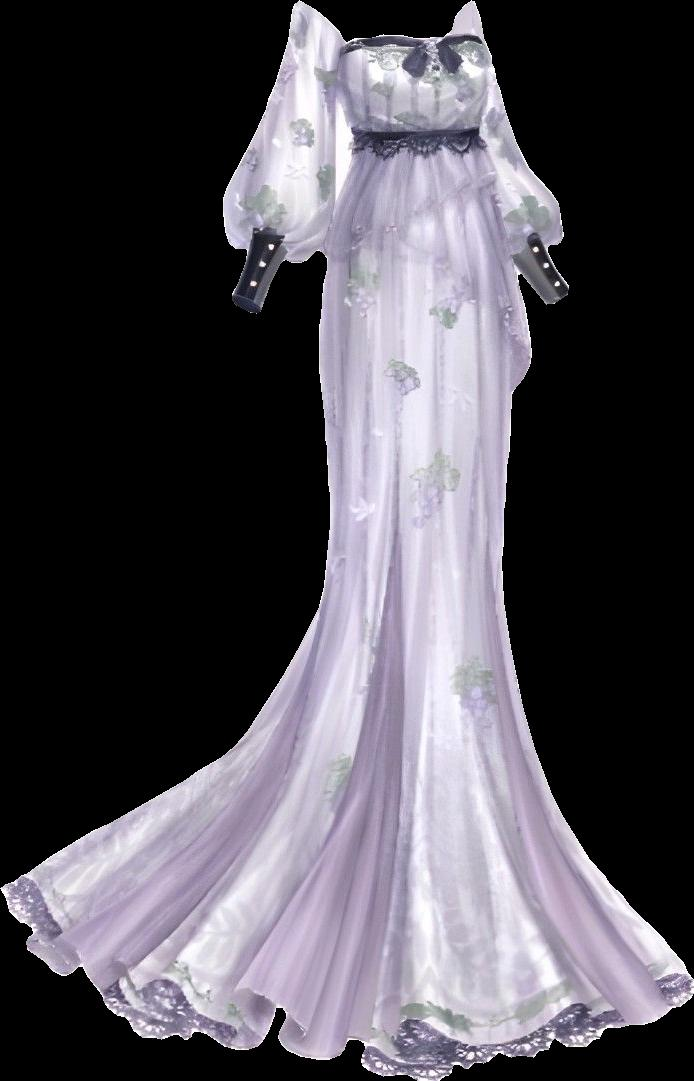Bodice: (335, 32, 489, 137)
Hemline: (0, 886, 693, 1080), (394, 235, 524, 389), (318, 177, 492, 263)
Neckline: (340, 31, 483, 50)
Skirt: (2, 131, 692, 1078)
Sleeve: (223, 1, 346, 313)
Sleeveline: (293, 0, 351, 91)
Waistline: (354, 126, 479, 145)
